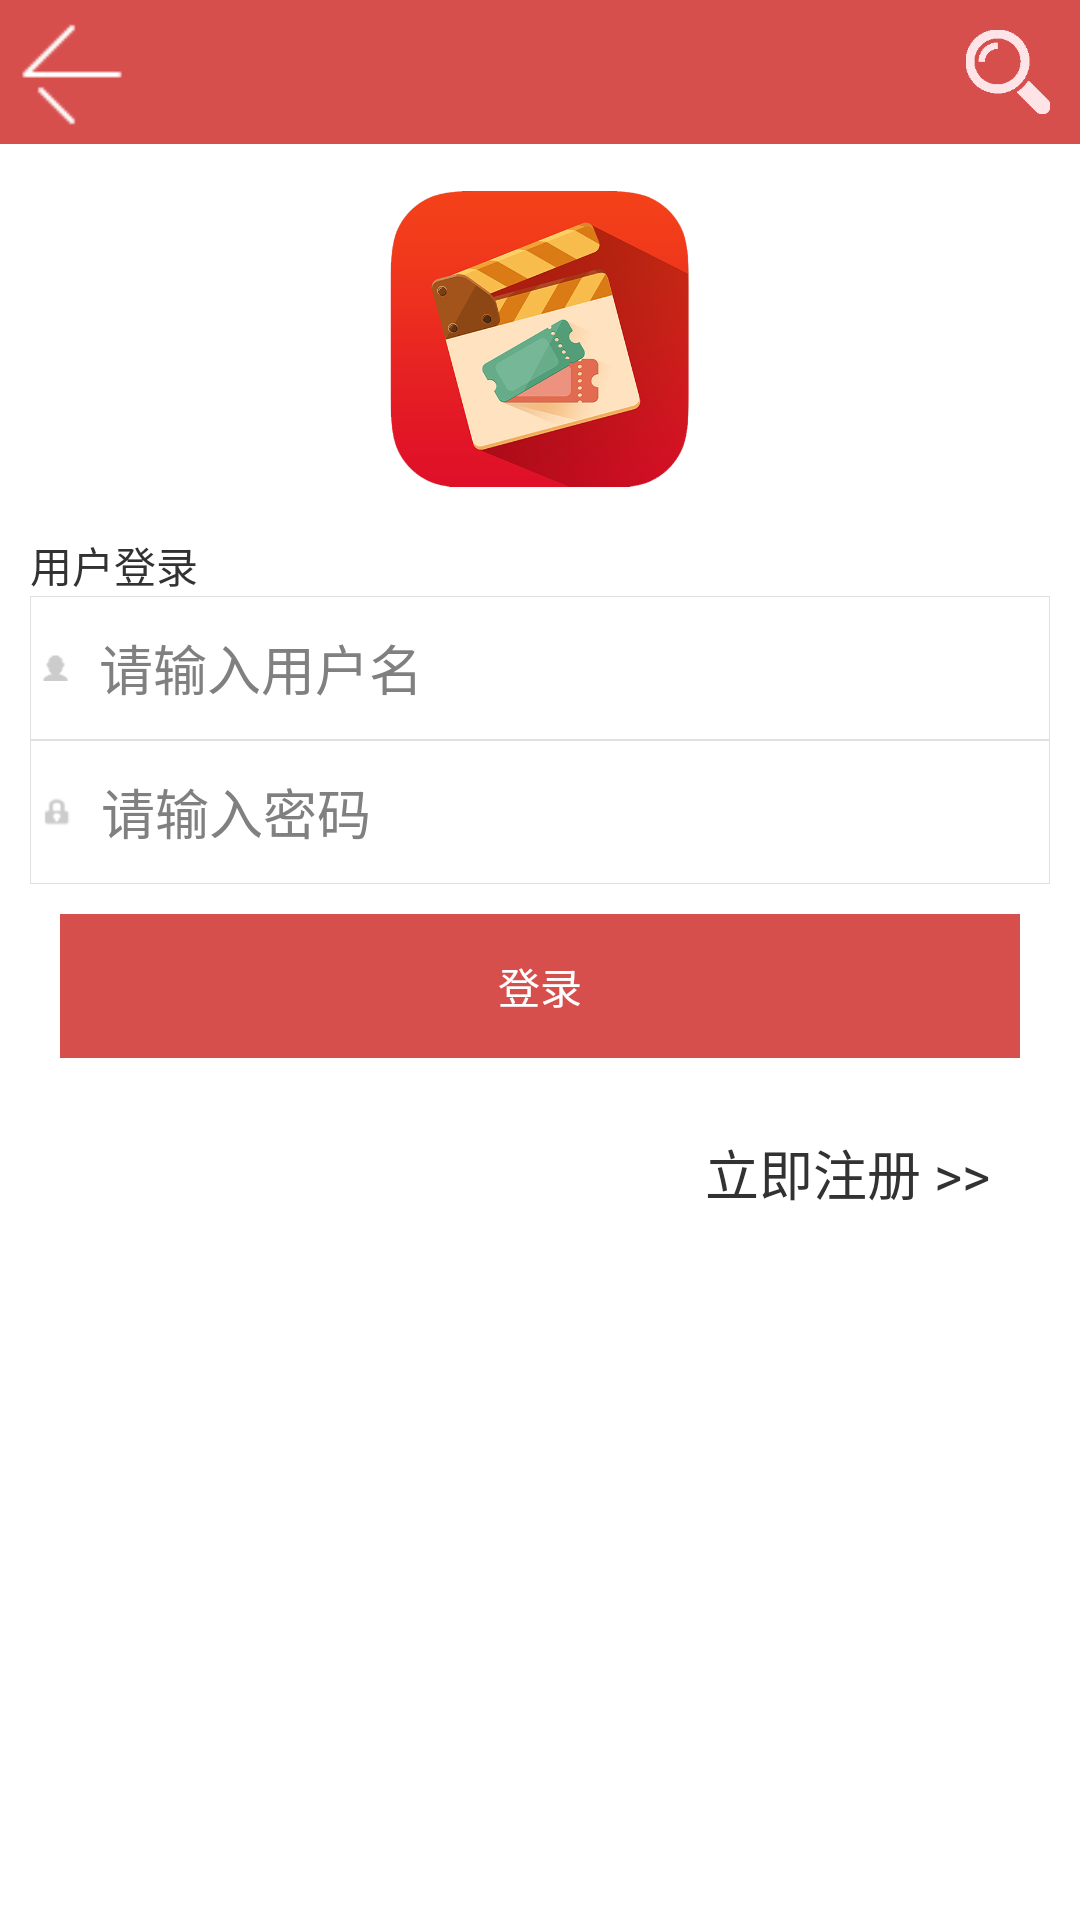

Where icons sit on this 1080*1920 app screen, as [x1, y1, x2, y2]:
left: [22, 25, 122, 125]
search: [966, 30, 1050, 114]
